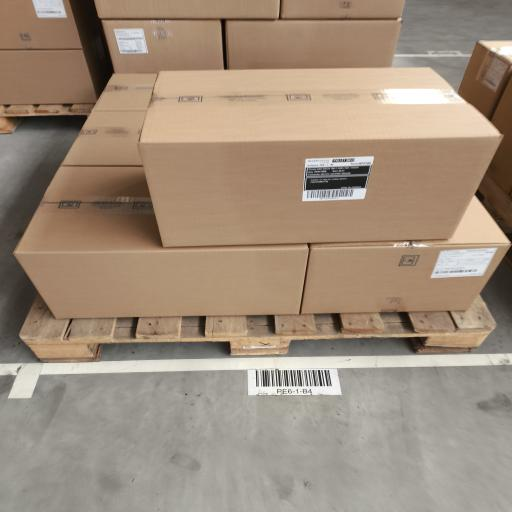pallet: (20, 296, 495, 362), (0, 104, 94, 133), (479, 174, 511, 239)
